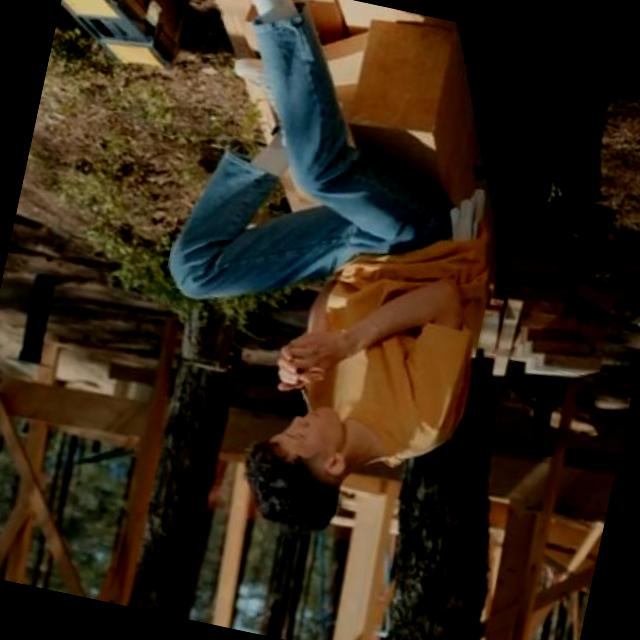smoke: (270, 367, 324, 428)
